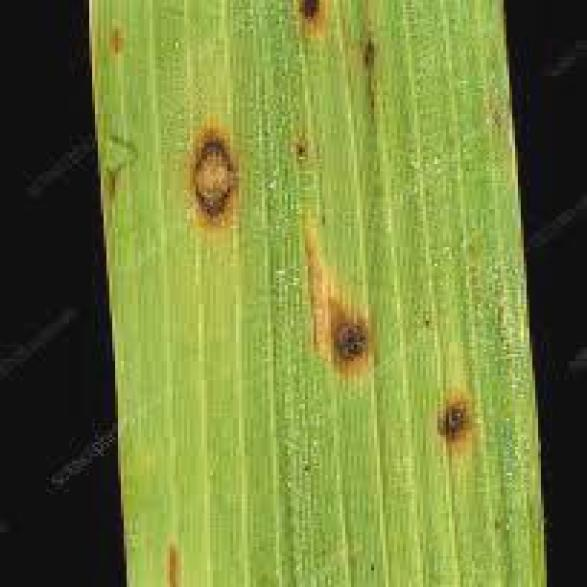Brown_Spot: (290, 240, 386, 380), (176, 102, 256, 228), (403, 359, 506, 454), (144, 530, 187, 585), (95, 10, 132, 60), (288, 0, 325, 29)
